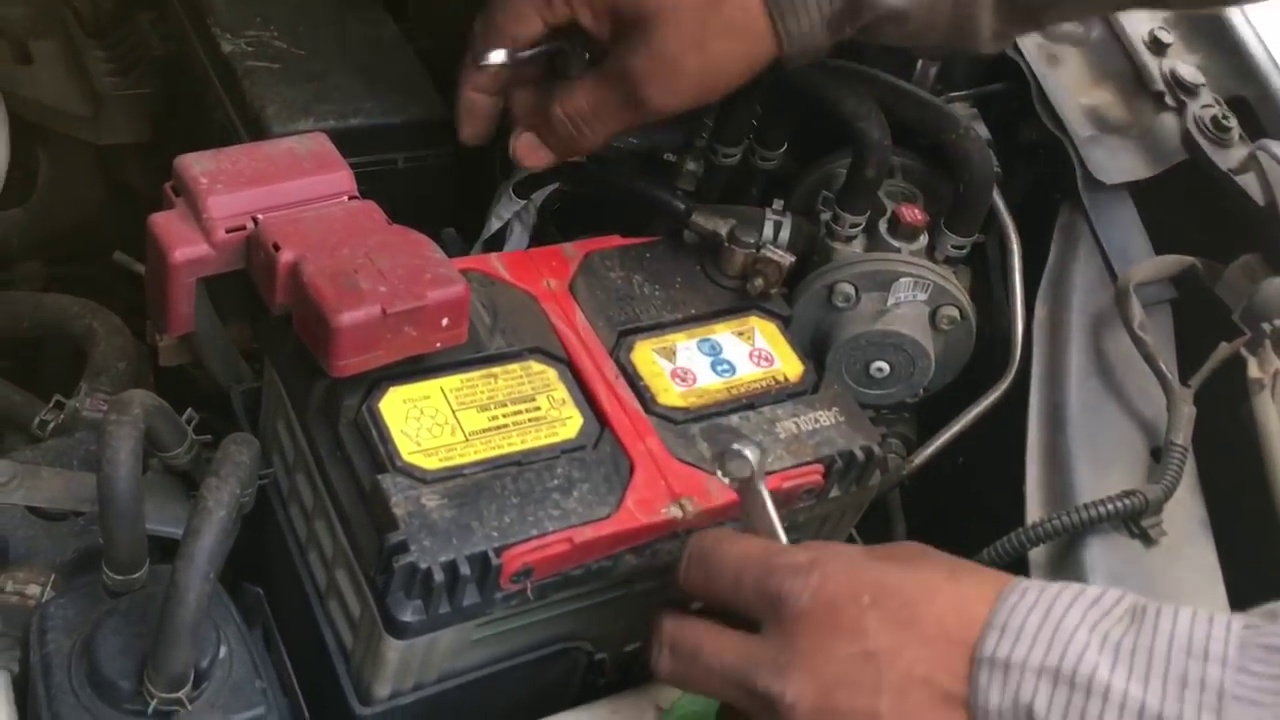battery: (217, 163, 878, 589)
neg_connected: (596, 157, 788, 326)
pos_connected: (166, 148, 465, 399)
